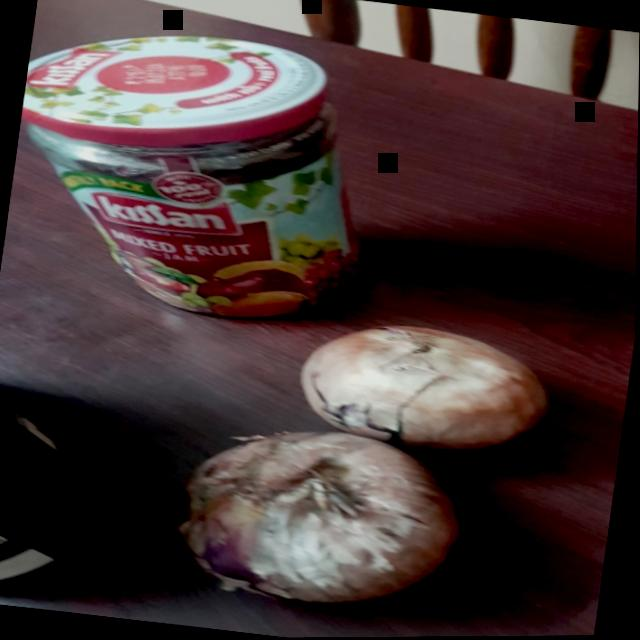onion: (158, 407, 484, 633), (286, 298, 571, 471)
